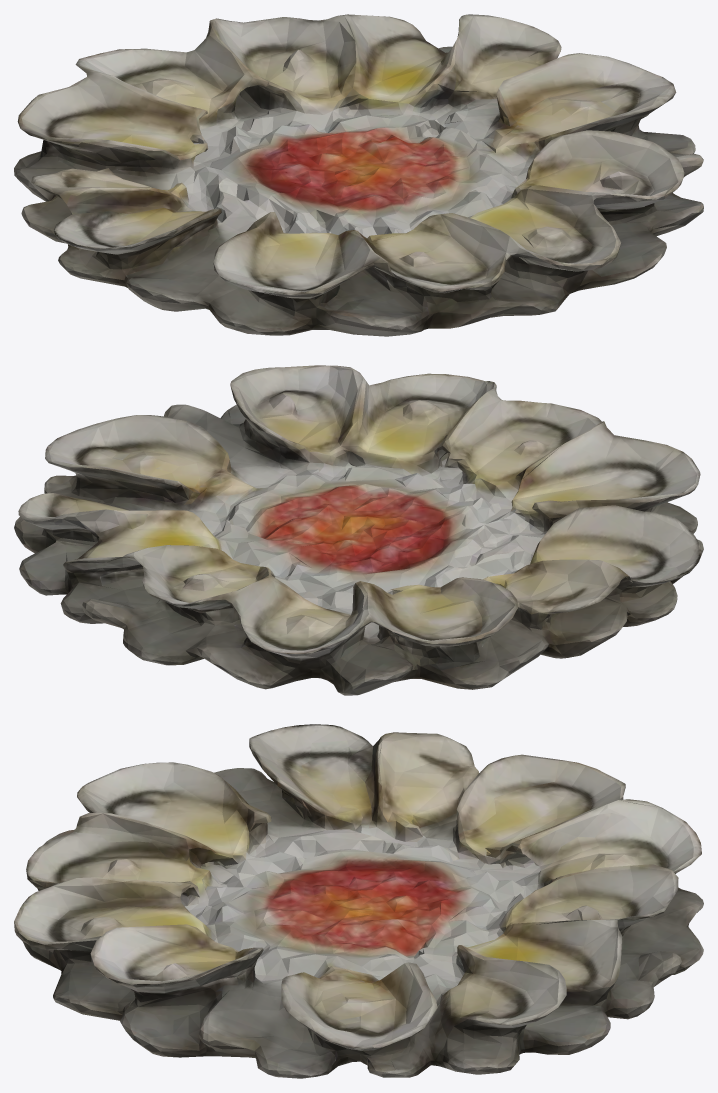
The model's file is oysters.glb.
3 renders of one model, top to bottom at view 1: azimuth 30°, elevation 25°; view 2: azimuth 150°, elevation 25°; view 3: azimuth 270°, elevation 25°, orthographic. The views are drawn at different scales.
Visible parts, largest first — view 1: geometry_0; view 2: geometry_0; view 3: geometry_0.
Part boxes in pixels (x1,y1,x2,y2): geometry_0: (14,14,703,336); geometry_0: (14,365,703,695); geometry_0: (14,724,703,1078).
Bounding box in the file's own units: 0.9966 × 0.1124 × 0.9281.
1 material, 1 textured.
